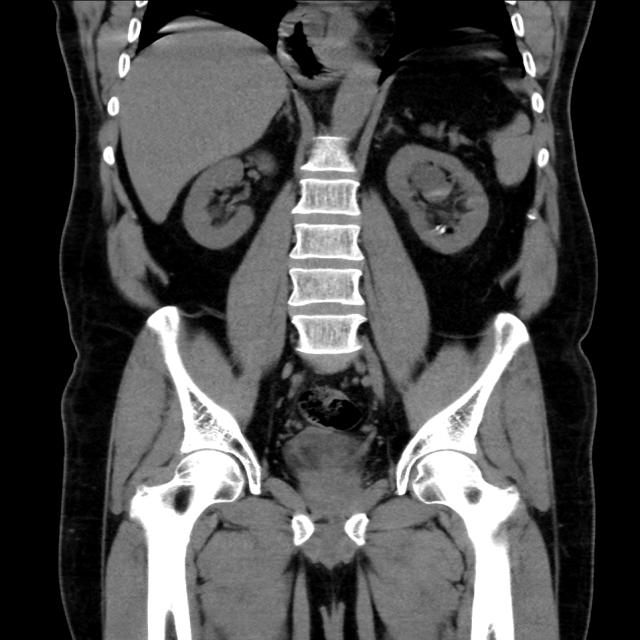kidneystone: (431, 224, 455, 236)
